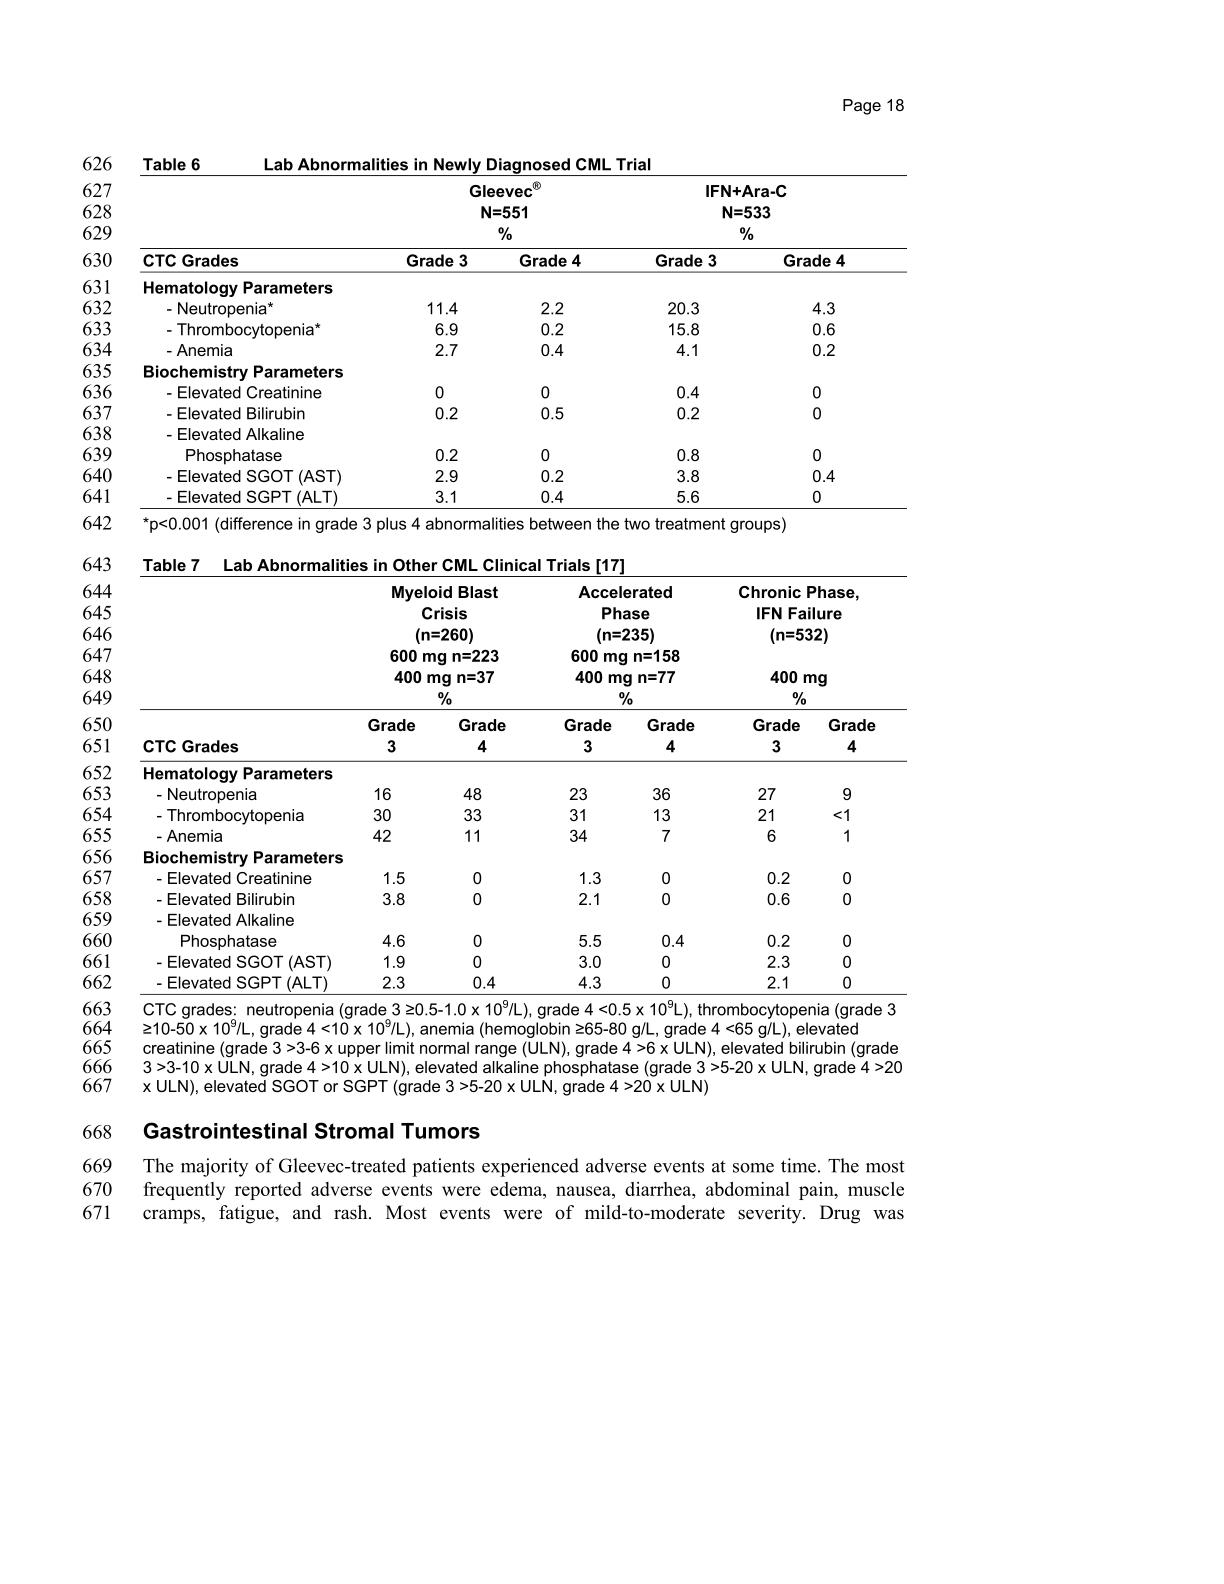partial_lined_merged_cells: (139, 575, 910, 996), (139, 174, 909, 510)
